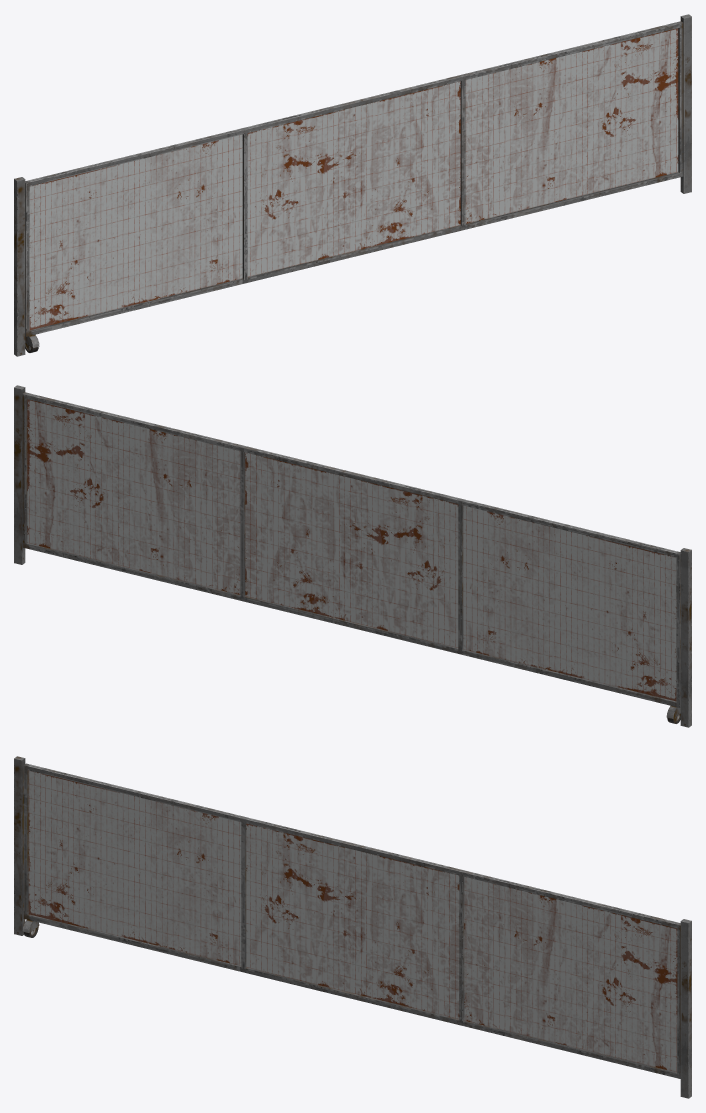
File: Gate Grid.fbx
3 renders of one model, top to bottom at view 1: azimuth 30°, elevation 25°; view 2: azimuth 150°, elevation 25°; view 3: azimuth 330°, elevation 25°, orthographic.
Visible parts, largest first — view 1: Cerca1/2.002, Cube; view 2: Cerca1/2.002, Cube; view 3: Cerca1/2.002, Cube.
Boxes of the visible parts, x1,y1,x2,y2 form: Cerca1/2.002: [25, 21, 683, 352]; Cube: [14, 14, 691, 356]; Cerca1/2.002: [22, 392, 680, 723]; Cube: [14, 385, 691, 727]; Cerca1/2.002: [22, 763, 680, 1078]; Cube: [14, 756, 691, 1098].
Bounding box in the file's own units: 1117 × 278 × 28.96.
